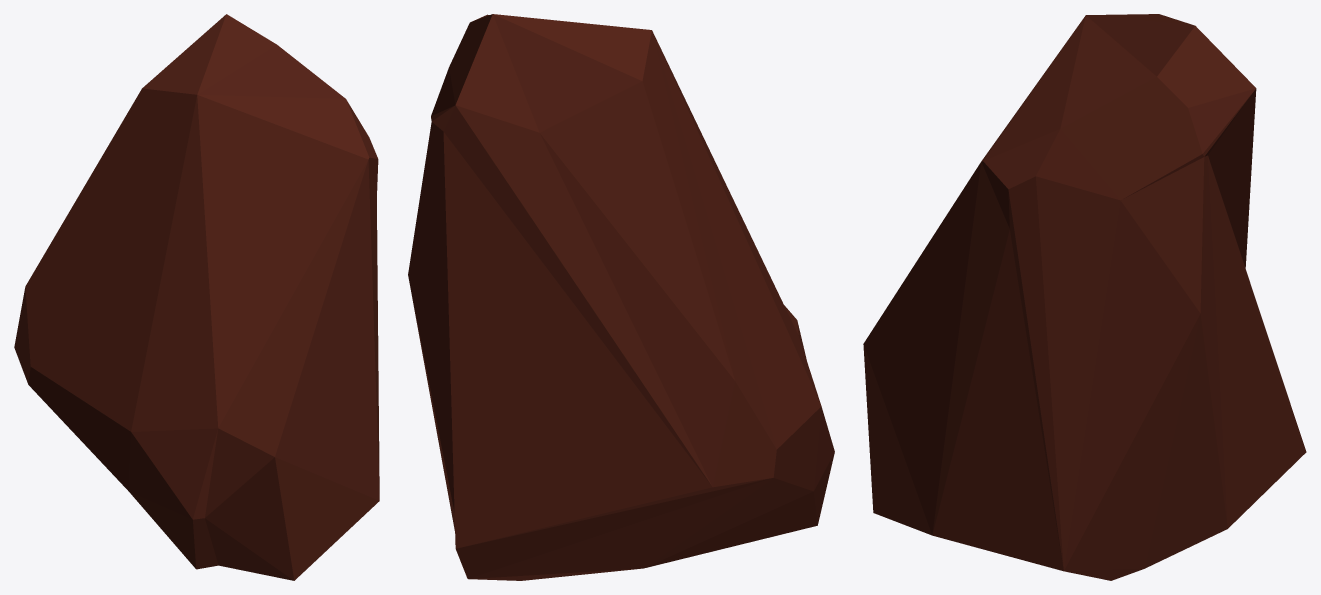
The model's file is Mesh_Hikari_Rocks03M.FBX.
3 views of the same model, side by side, from view 1: azimuth 30°, elevation 25°; view 2: azimuth 150°, elevation 25°; view 3: azimuth 270°, elevation 25° (orthographic). The views are drawn at different scales.
Visible parts, largest first — view 1: Rock03; view 2: Rock03; view 3: Rock03.
Part boxes in pixels (x1,y1,x2,y2): Rock03: [14, 14, 379, 580]; Rock03: [408, 14, 834, 580]; Rock03: [863, 14, 1306, 580].
Size of the model in its own units: 3.97 by 6.07 by 4.45.
